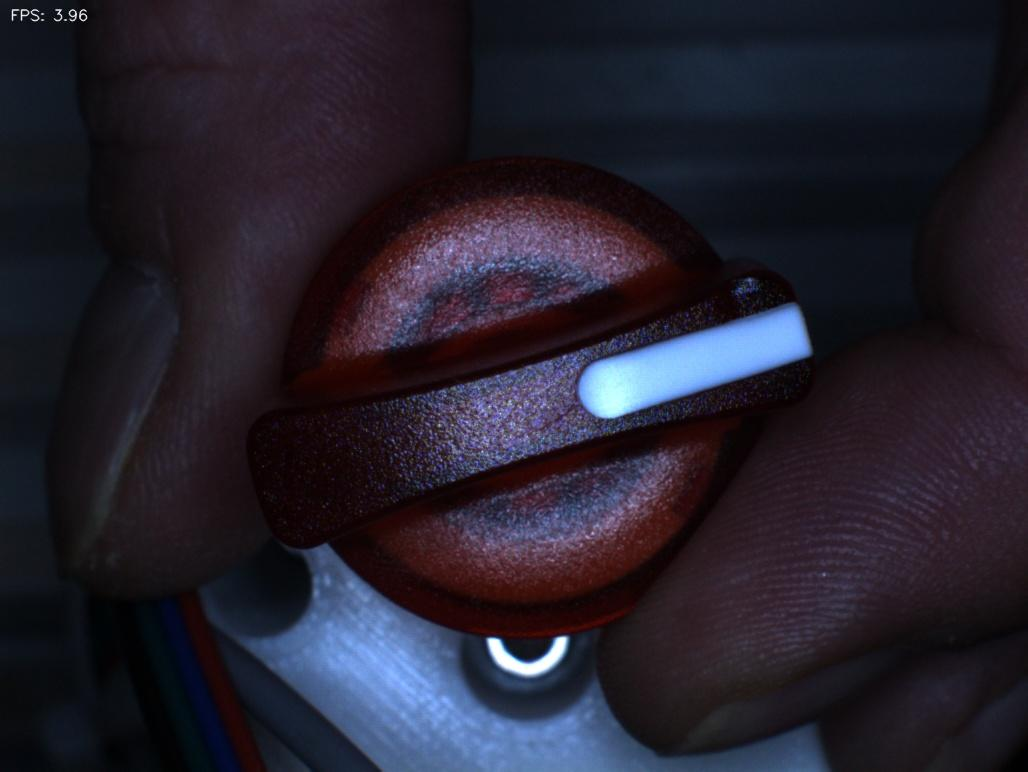Choc: (716, 247, 797, 325)
